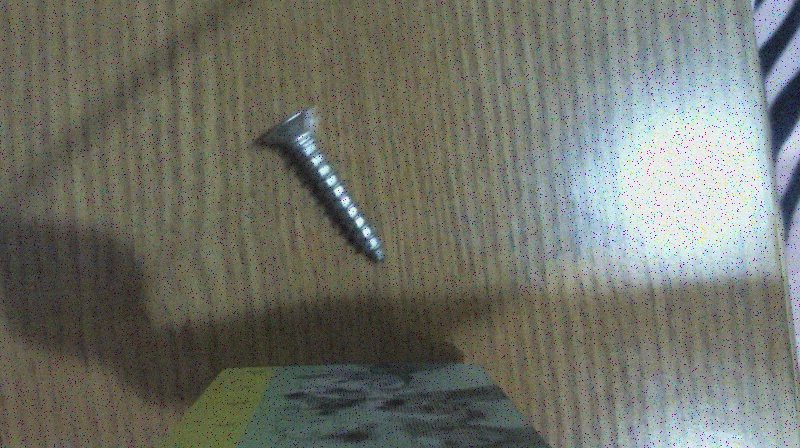S001: (247, 98, 388, 270)
